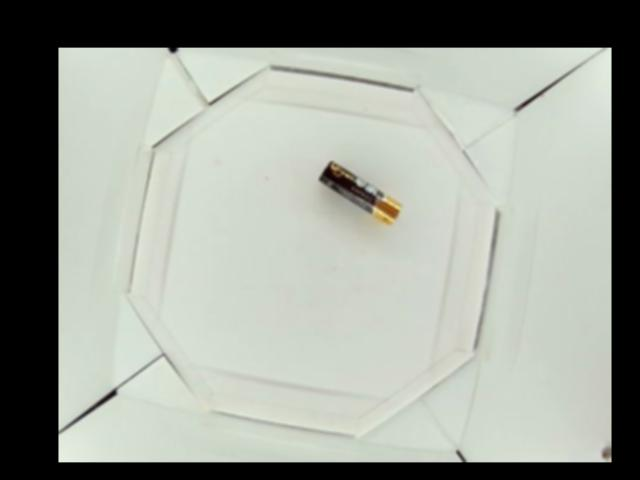Battery: (316, 159, 404, 226)
